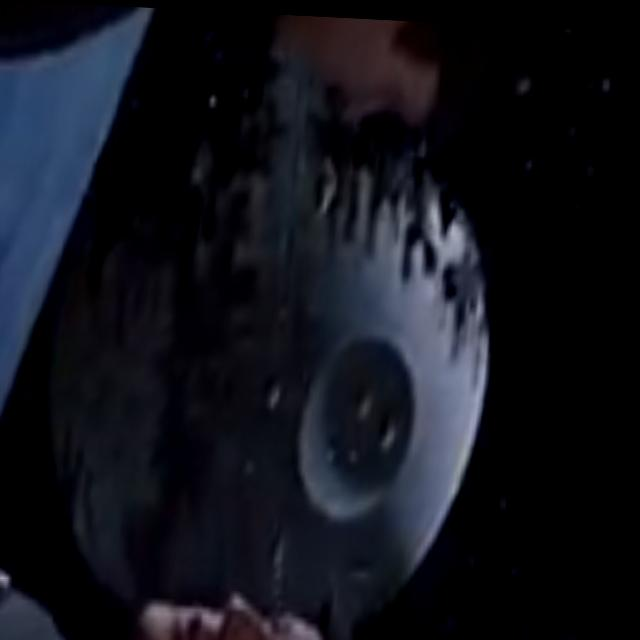deathStar: (33, 59, 516, 640)
